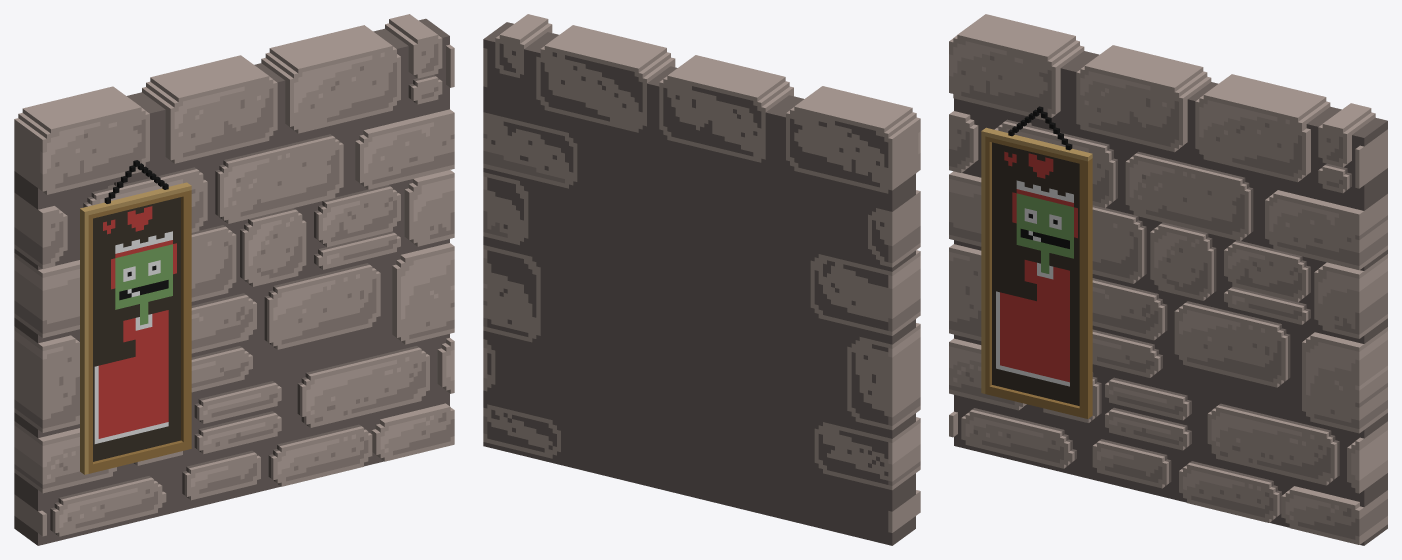
The model's file is GGJ walls 2.2.obj.
3 views of the same model, side by side, from view 1: azimuth 30°, elevation 25°; view 2: azimuth 150°, elevation 25°; view 3: azimuth 330°, elevation 25° (orthographic).
Size of the model in its own units: 10 by 9.7 by 1.4.
Materials: 1 (1 with a texture image).
